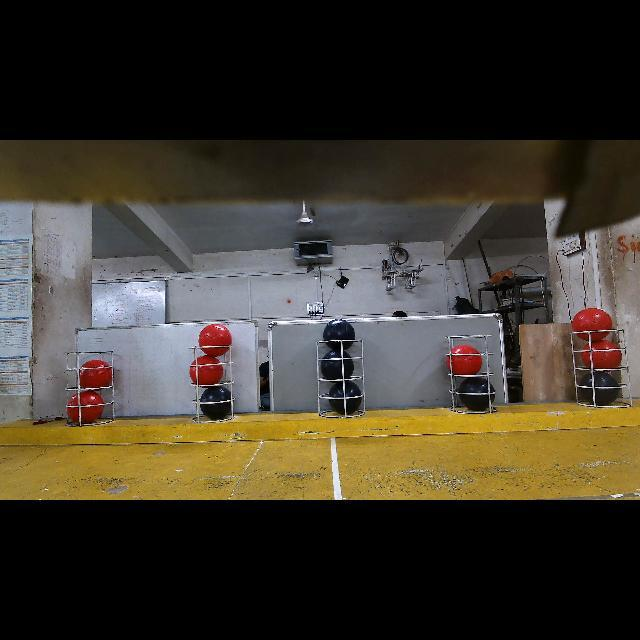P: (579, 371, 620, 405), (459, 376, 495, 411), (321, 318, 357, 352), (329, 381, 362, 415), (200, 386, 233, 419), (321, 351, 354, 384)
R: (572, 308, 612, 342), (67, 391, 104, 424), (581, 340, 622, 369), (190, 355, 223, 388), (446, 345, 482, 375), (199, 324, 232, 356), (80, 359, 112, 391)
S: (309, 334, 371, 418), (442, 333, 512, 405), (569, 328, 629, 409), (61, 348, 117, 428), (187, 335, 237, 417)
